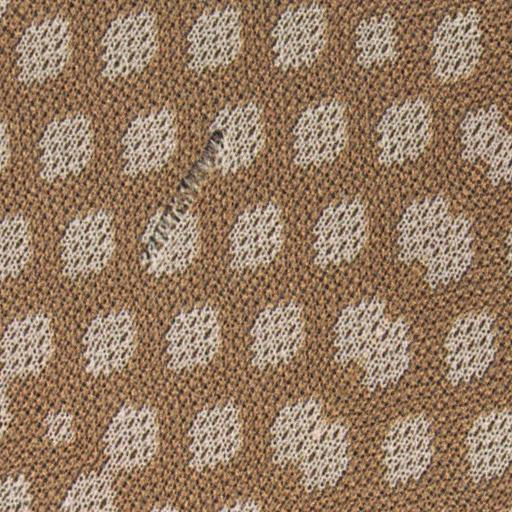slub: (128, 118, 252, 279)
